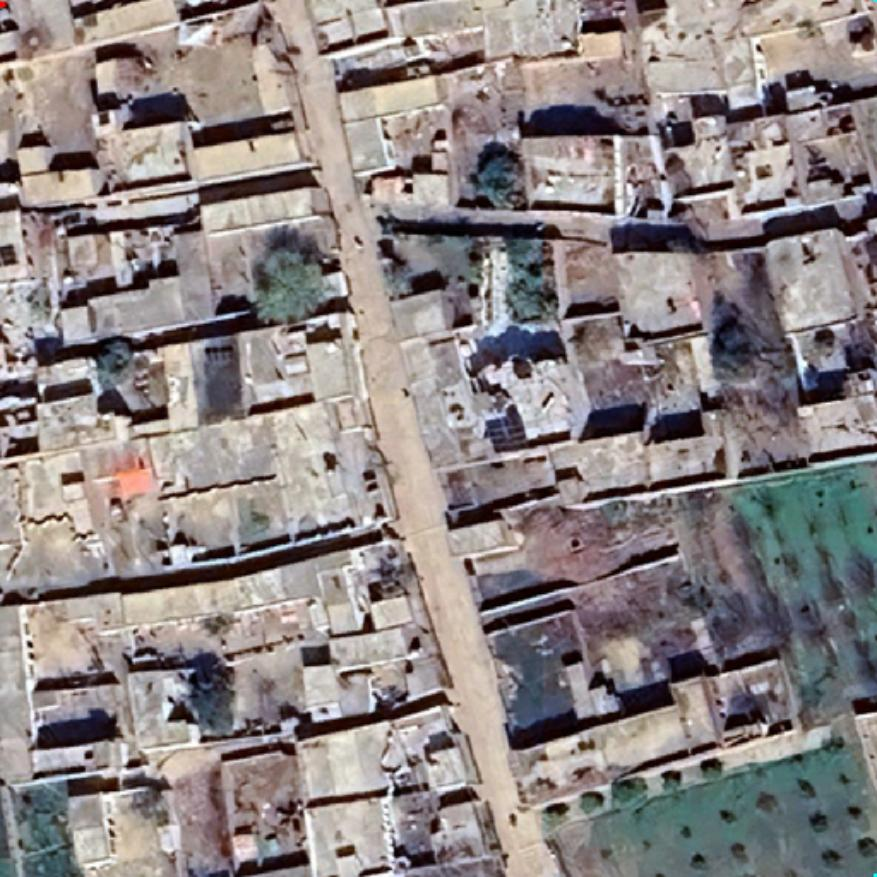Solarpanel: (480, 410, 532, 456), (0, 242, 20, 270)
